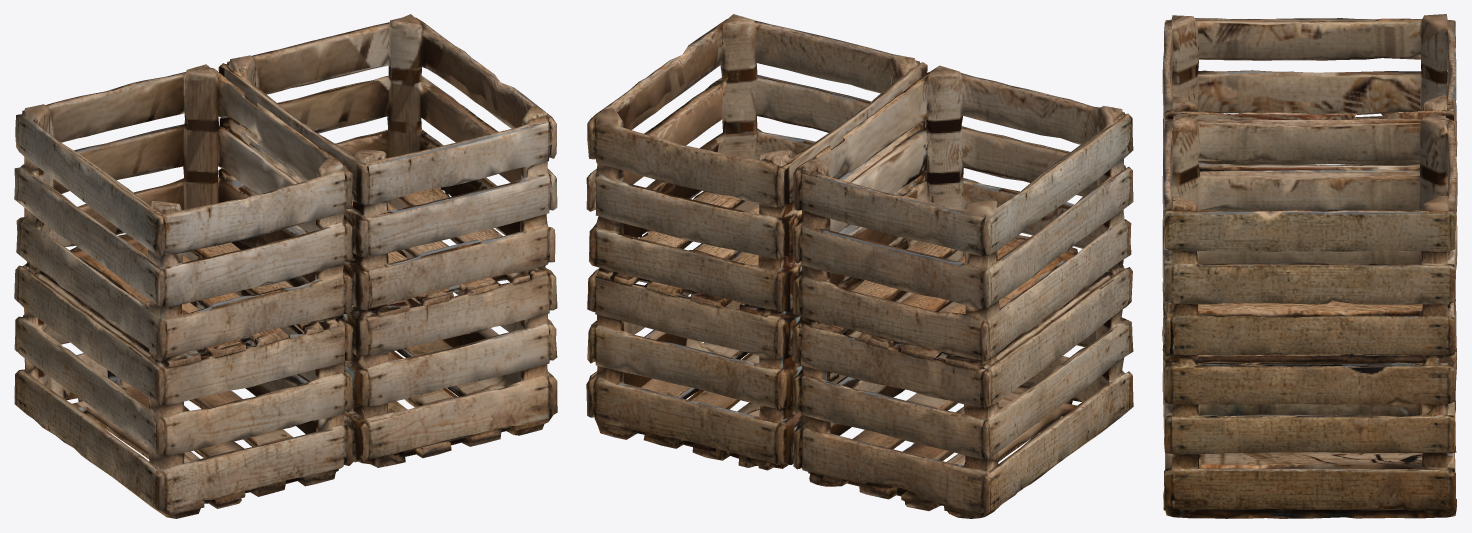
Rendered from CrateStack.glb.
3 views of the same model, side by side, from view 1: azimuth 30°, elevation 25°; view 2: azimuth 150°, elevation 25°; view 3: azimuth 270°, elevation 25° (orthographic).
Visible parts, largest first — view 1: texture_mapping; view 2: texture_mapping; view 3: texture_mapping.
Boxes of the visible parts, left/top/right/bottom form: texture_mapping: left=14, top=14, right=557, bottom=518; texture_mapping: left=586, top=14, right=1133, bottom=518; texture_mapping: left=1162, top=14, right=1457, bottom=518.
Bounding box in the file's own units: 1 × 0.7541 × 0.6348.
Materials: 1 (1 with a texture image).
